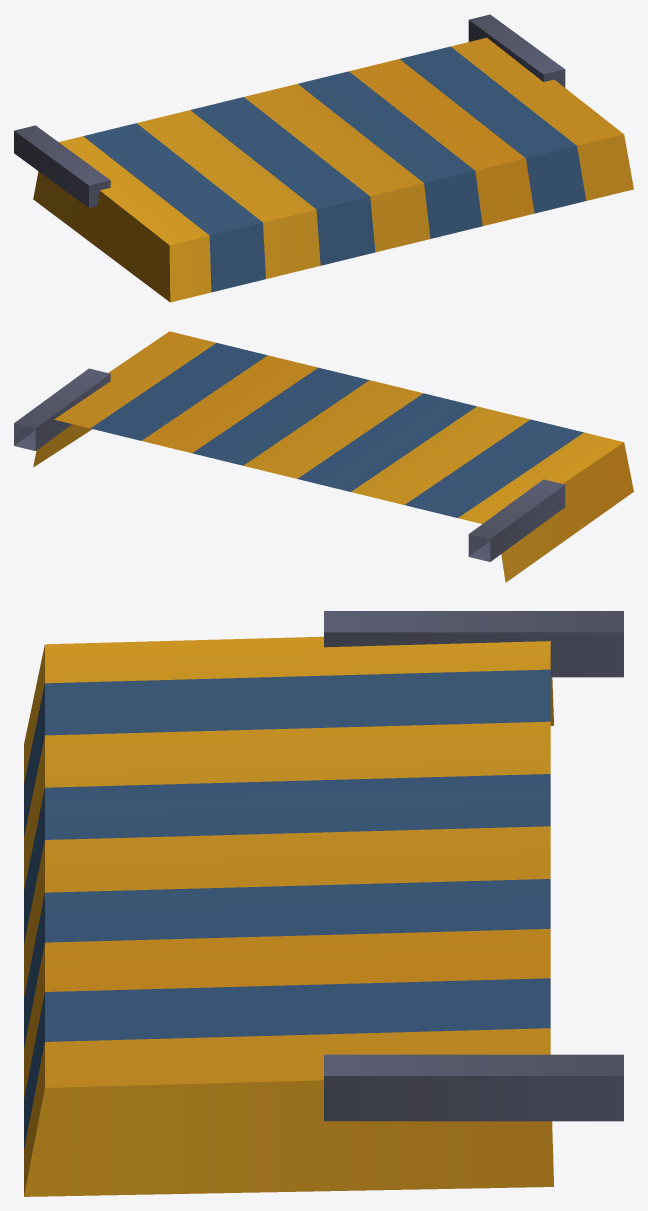
File: SM_Shed_2A.FBX
3 renders of one model, top to bottom at view 1: azimuth 30°, elevation 25°; view 2: azimuth 150°, elevation 25°; view 3: azimuth 270°, elevation 25°, orthographic. The views are drawn at different scales.
Visible parts, largest first — view 1: SM_Shed_2A; view 2: SM_Shed_2A; view 3: SM_Shed_2A.
Boxes of the visible parts, bbox=[...] form: SM_Shed_2A: bbox=[14, 14, 633, 302]; SM_Shed_2A: bbox=[14, 331, 633, 582]; SM_Shed_2A: bbox=[24, 611, 623, 1196].
Size of what is drawn, in the model's own units: 419 by 229 by 53.47.
